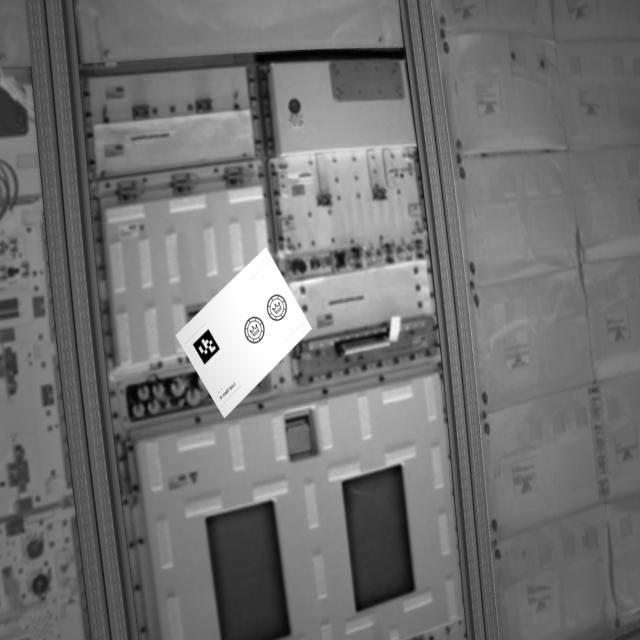coin: (243, 316, 267, 346), (268, 294, 289, 323)
